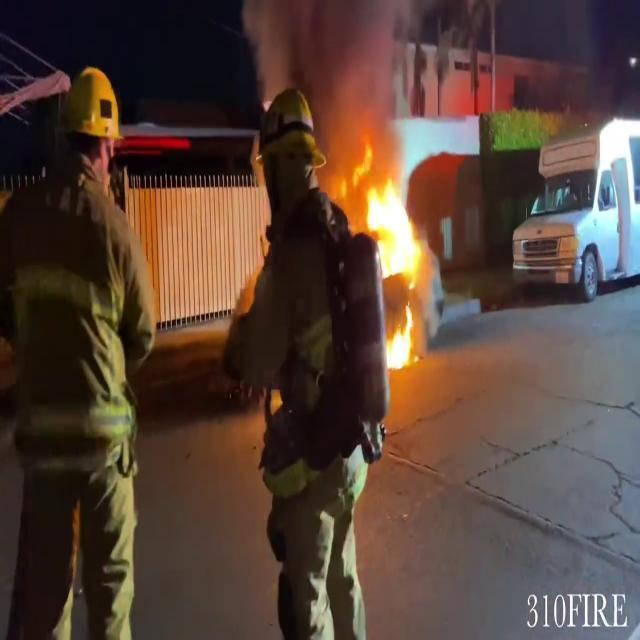Fire: (358, 149, 426, 372)
Smoke: (248, 0, 410, 158)
